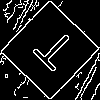T: (25, 25, 79, 79)
